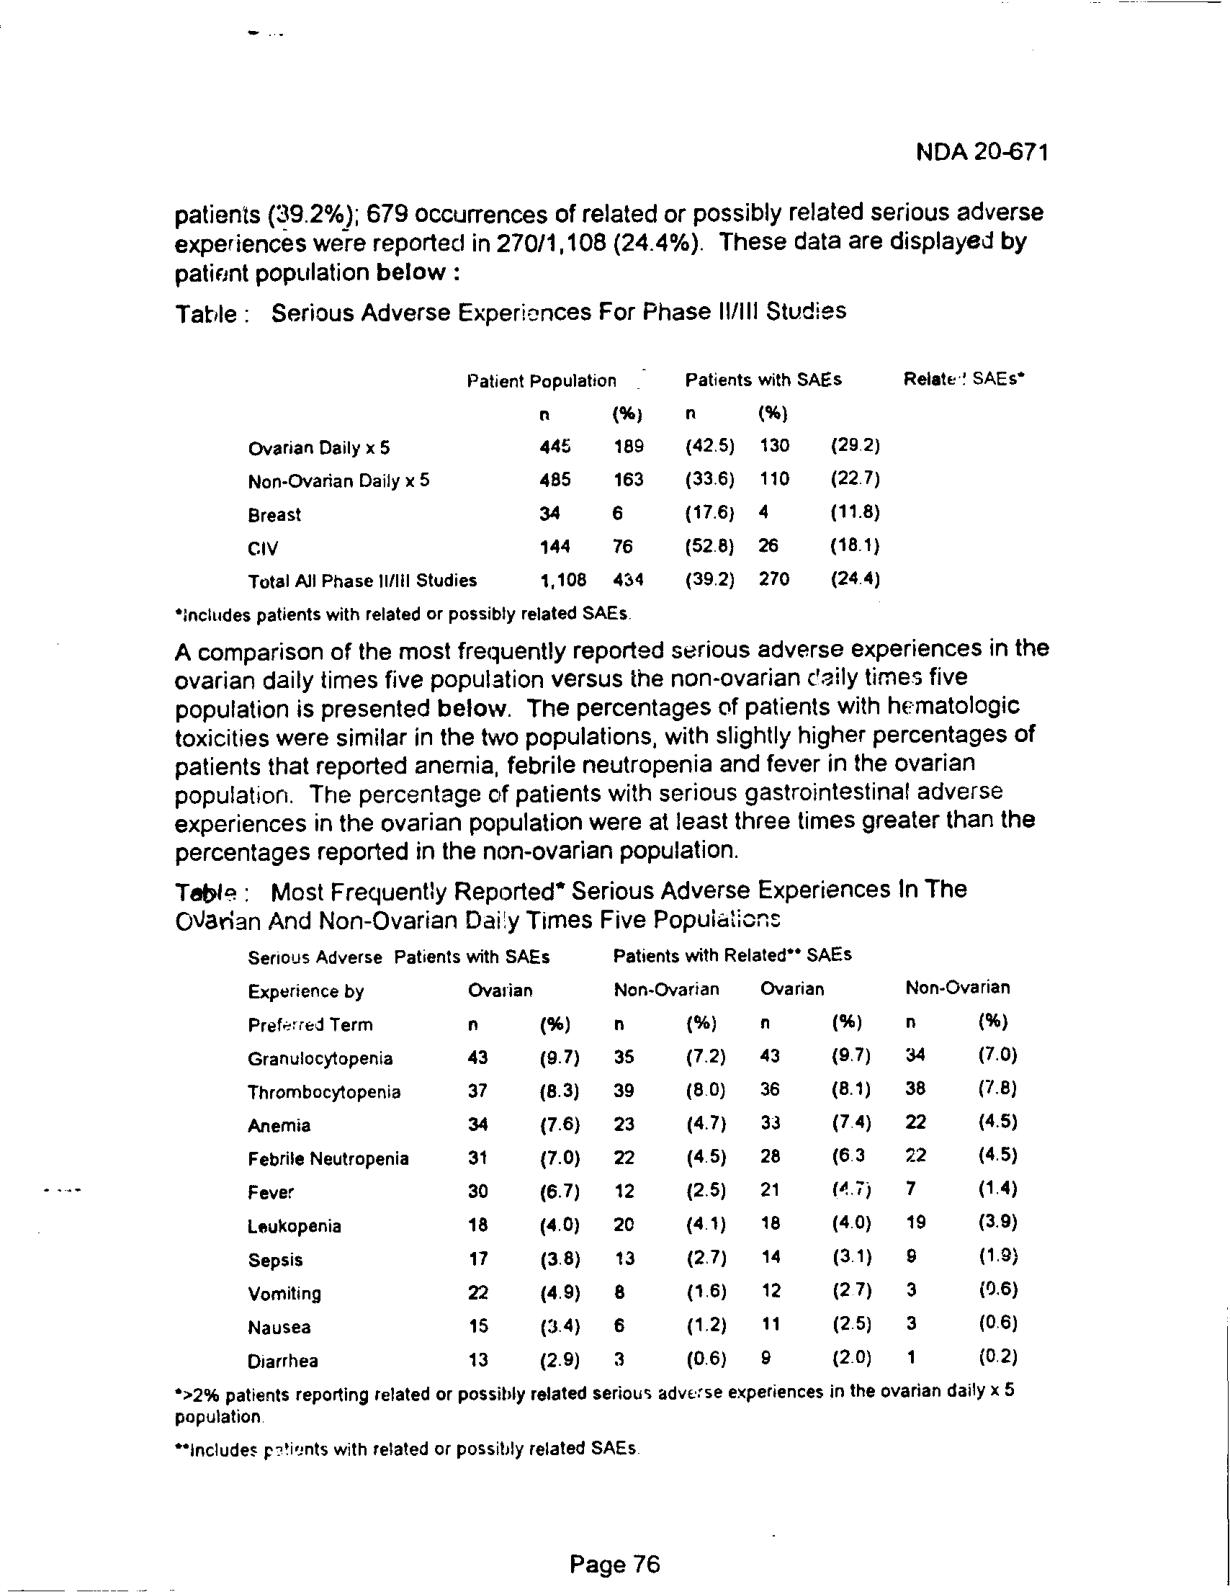nolines: (239, 941, 1027, 1374), (242, 364, 1031, 597)
